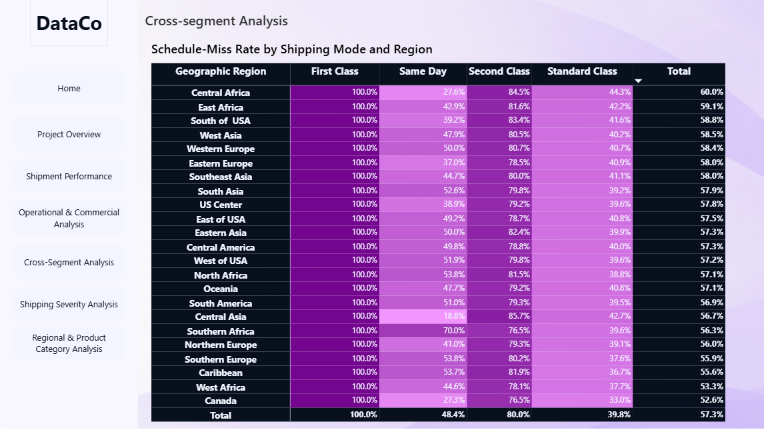

The page's visual inventory and layout, read from the dashboard file:
{"tool":"powerbi","page":{"name":"Cross-Segment Analysis","canvas":[1920,1080],"ordinal":4},"visuals":[{"type":"shape","box":[2.5,0,342.5,1080],"z":0},{"type":"shape","box":[32.5,180,280,85],"z":1000},{"type":"shape","box":[32.5,295,280,85],"z":2000},{"type":"shape","box":[32.5,720,280,85],"z":3000},{"type":"shape","box":[32.5,400,280,85],"z":4000},{"type":"shape","box":[32.5,505,280,85],"z":5000},{"type":"shape","box":[32.5,615,280,85],"z":6000},{"type":"shape","box":[75,0,195,117.5],"z":7000},{"type":"shape","title":"Cross-segment Analysis","box":[362.5,30,550,60],"z":8000},{"type":"pivotTable","title":"Schedule-Miss Rate by Shipping Mode and Region","fields":{"Columns":["Dim_Shipping_Mode.shipping_mode"],"Rows":["Dim_Region.order_region"],"Values":["fact_order_shipping.Schedule Miss Rate"]},"box":[362.5,90,1550,990],"z":9000},{"type":"shape","box":[32.5,817.5,280,85],"z":9001}]}

Visuals, with their boxes on the page's 1920x1080 design canvas (x1, y1, x2, y2). These are canvas units, not pixel positions in the 764x429 screenshot, which may show the page scaled, cropped or inside an application window:
shape: left=2, top=0, right=345, bottom=1080
shape: left=32, top=180, right=312, bottom=265
shape: left=32, top=295, right=312, bottom=380
shape: left=32, top=720, right=312, bottom=805
shape: left=32, top=400, right=312, bottom=485
shape: left=32, top=505, right=312, bottom=590
shape: left=32, top=615, right=312, bottom=700
shape: left=75, top=0, right=270, bottom=118
"Cross-segment Analysis" shape: left=362, top=30, right=912, bottom=90
"Schedule-Miss Rate by Shipping Mode and Region" pivotTable: left=362, top=90, right=1912, bottom=1080
shape: left=32, top=818, right=312, bottom=902
